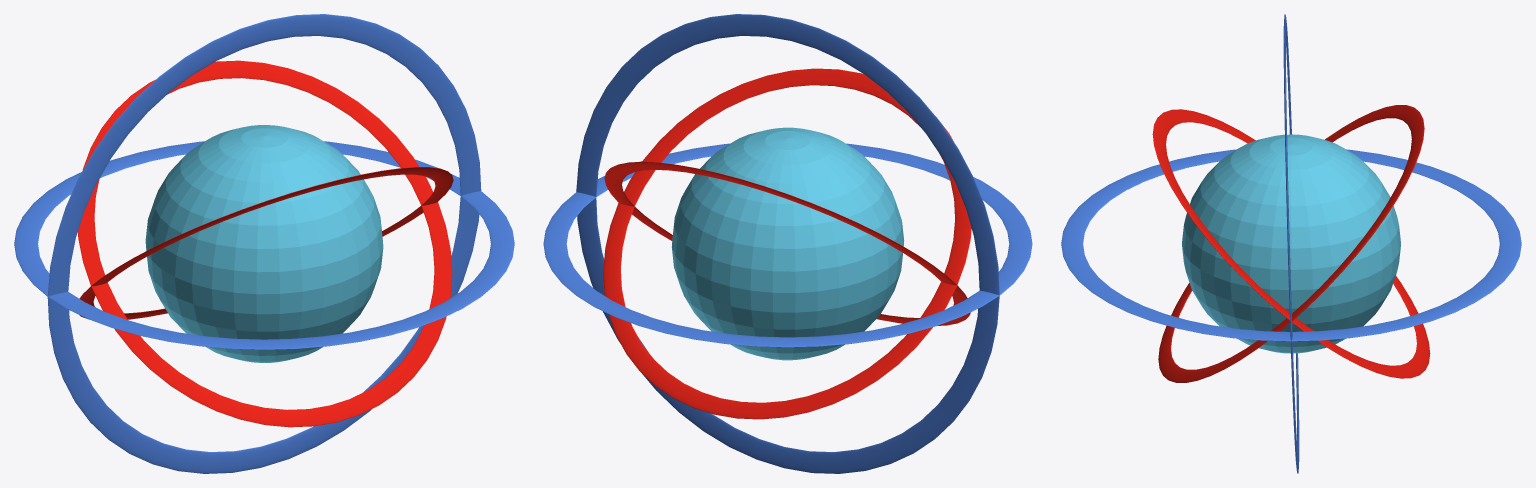
The picture shows the model from 3 angles, left to right: view 1: azimuth 30°, elevation 25°; view 2: azimuth 150°, elevation 25°; view 3: azimuth 270°, elevation 25°; orthographic projection. The views are drawn at different scales.
Visible parts, largest first — view 1: Sphere; view 2: Sphere; view 3: Sphere.
Part boxes in pixels (x1,y1,x2,y2): Sphere: (14,14,514,473); Sphere: (543,14,1032,473); Sphere: (1061,14,1521,473).
Size of the model in its own units: 2.1 by 2.1 by 2.1.
